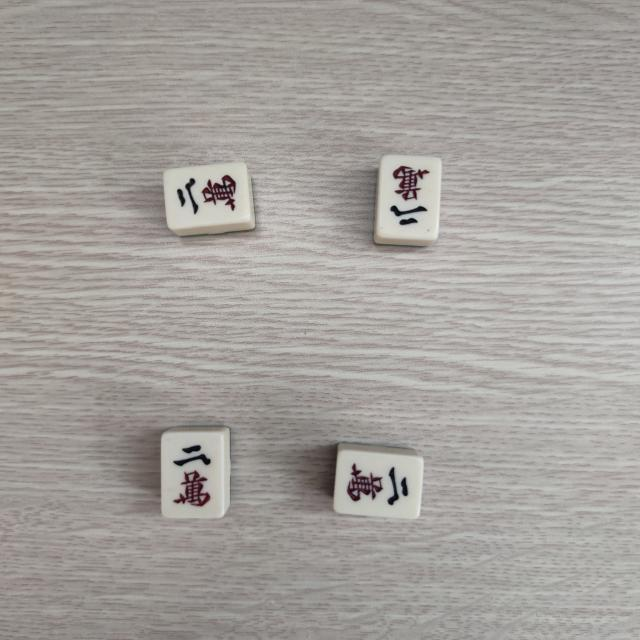sc2: (164, 438, 219, 514), (342, 458, 418, 510), (385, 160, 433, 232), (170, 172, 245, 217)
